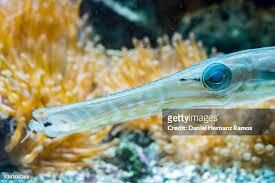Fistularia commersonii: (17, 39, 275, 131)
